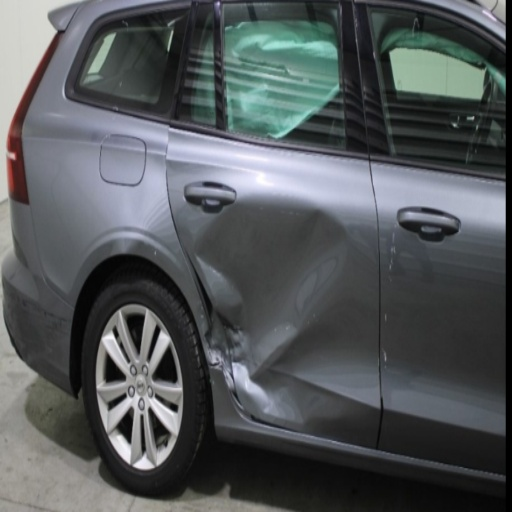dent: (190, 193, 354, 419), (192, 289, 225, 380)
scratch: (199, 303, 222, 370), (303, 310, 319, 331), (272, 324, 294, 338)
